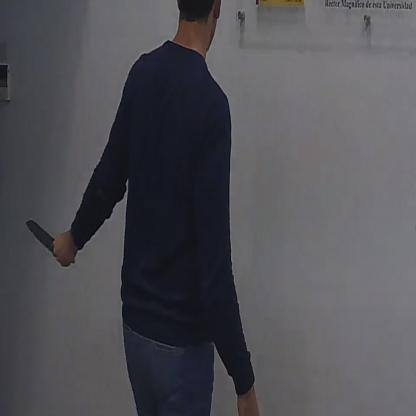knife: (23, 211, 69, 268)
